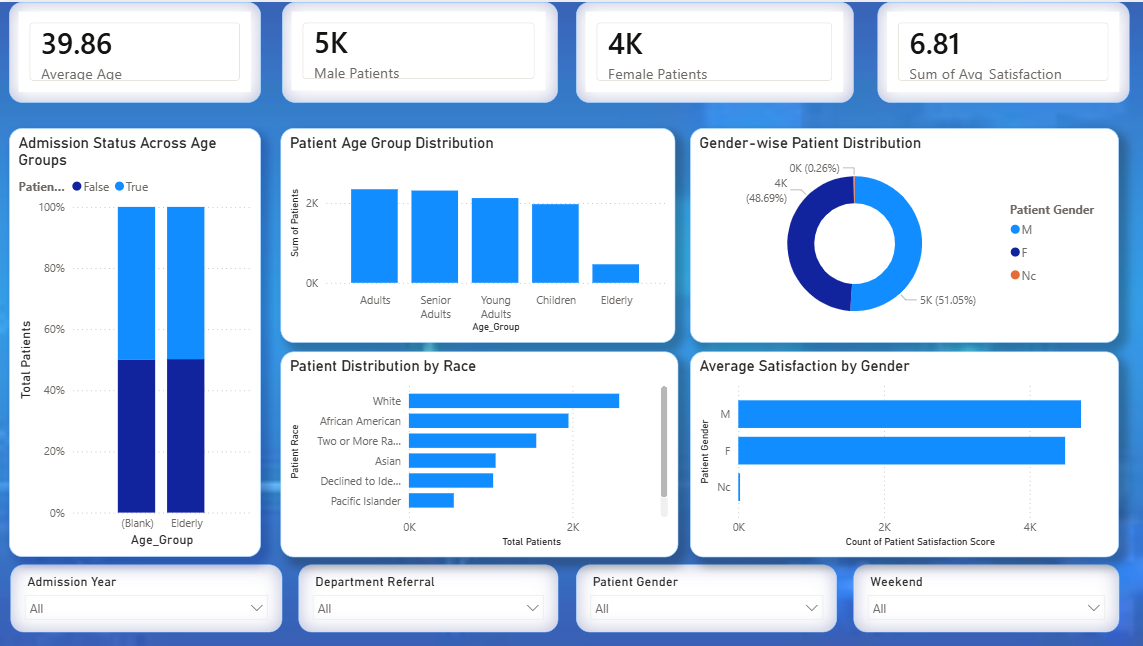

Layout of this report page (visuals, bound fields, positions):
{"tool":"powerbi","page":{"name":"Patient Intelligence Dashboard","canvas":[1280,720],"ordinal":1},"visuals":[{"type":"cardVisual","fields":{"Data":["healthcare_data.Average Age"]},"box":[10,0,280,111.7],"z":0},{"type":"cardVisual","fields":{"Data":["healthcare_data.Male Patients"]},"box":[313.3,0,306.7,111.7],"z":1000},{"type":"cardVisual","fields":{"Data":["healthcare_data.Female Patients"]},"box":[640,0,308.3,111.7],"z":2000},{"type":"cardVisual","fields":{"Data":["Sum(vw_age_group_summary.Avg_Satisfaction)"]},"box":[975,0,280,111.7],"z":3000},{"type":"slicer","fields":{"Values":["healthcare_data.Admission Year"]},"box":[10,625,301.7,95],"z":4000},{"type":"slicer","fields":{"Values":["healthcare_data.Department Referral"]},"box":[331.7,625,288.3,95],"z":5000},{"type":"slicer","fields":{"Values":["healthcare_data.Patient Gender"]},"box":[640,625,290,95],"z":6000},{"type":"slicer","fields":{"Values":["healthcare_data.Weekend"]},"box":[948.3,625,295,95],"z":7000},{"type":"clusteredColumnChart","title":"Patient Age Group Distribution","fields":{"Category":["vw_age_group_summary.Age_Group"],"Y":["Sum(vw_age_group_summary.Patients)"]},"box":[311.7,140,438.3,238.3],"z":8000},{"type":"donutChart","title":"Gender-wise Patient Distribution","fields":{"Category":["healthcare_data.Patient Gender"],"Y":["healthcare_data.Total Patients"]},"box":[766.7,140,476.7,238.3],"z":9000},{"type":"clusteredBarChart","title":"Patient Distribution by Race","fields":{"Category":["healthcare_data.Patient Race"],"Y":["healthcare_data.Total Patients"]},"box":[311.7,388.3,441.7,228.3],"z":10000},{"type":"clusteredBarChart","title":"Average Satisfaction by Gender","fields":{"Category":["healthcare_data.Patient Gender"],"Y":["CountNonNull(healthcare_data.Patient Satisfaction Score)"]},"box":[766.7,388.3,476.7,228.3],"z":11000},{"type":"hundredPercentStackedColumnChart","title":"Admission Status Across Age Groups","fields":{"Category":["vw_age_group_summary.Age_Group"],"Series":["healthcare_data.Patient Admission Flag"],"Y":["healthcare_data.Total Patients"]},"box":[10,140,280,476.7],"z":12000}]}

Visuals, with their boxes in screenshot pixels (x1, y1, x2, y2), scaled from the page's 1280x720 canvas onto the 1143x646 screenshot:
cardVisual - healthcare_data.Average Age: [9,0,259,100]
cardVisual - healthcare_data.Male Patients: [280,0,554,100]
cardVisual - healthcare_data.Female Patients: [572,0,847,100]
cardVisual - Sum(vw_age_group_summary.Avg_Satisfaction): [871,0,1121,100]
slicer - healthcare_data.Admission Year: [9,561,278,645]
slicer - healthcare_data.Department Referral: [296,561,554,645]
slicer - healthcare_data.Patient Gender: [572,561,830,645]
slicer - healthcare_data.Weekend: [847,561,1110,645]
"Patient Age Group Distribution" clusteredColumnChart: [278,126,670,339]
"Gender-wise Patient Distribution" donutChart: [685,126,1110,339]
"Patient Distribution by Race" clusteredBarChart: [278,348,673,553]
"Average Satisfaction by Gender" clusteredBarChart: [685,348,1110,553]
"Admission Status Across Age Groups" hundredPercentStackedColumnChart: [9,126,259,553]
